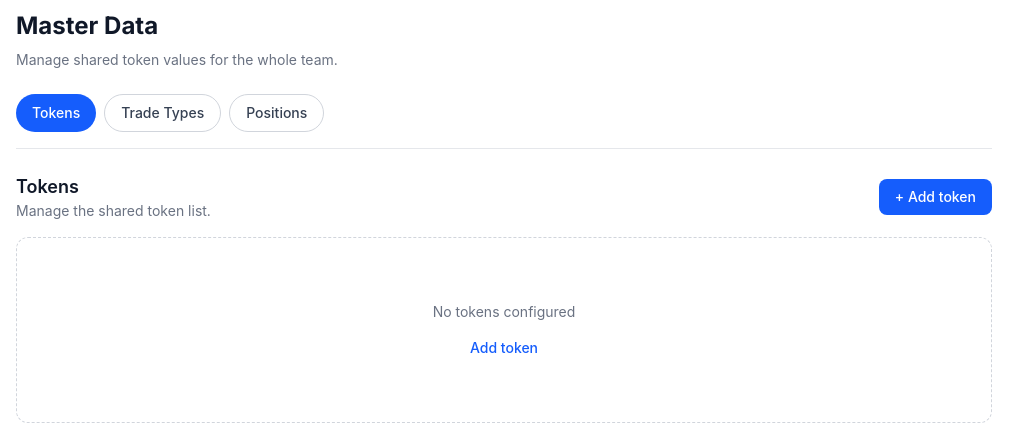
Test case: MasterDataComponent › switches the active tab when a tab is clicked
Click the tab "Positions": coordinates (277, 113) [229,94,324,132]
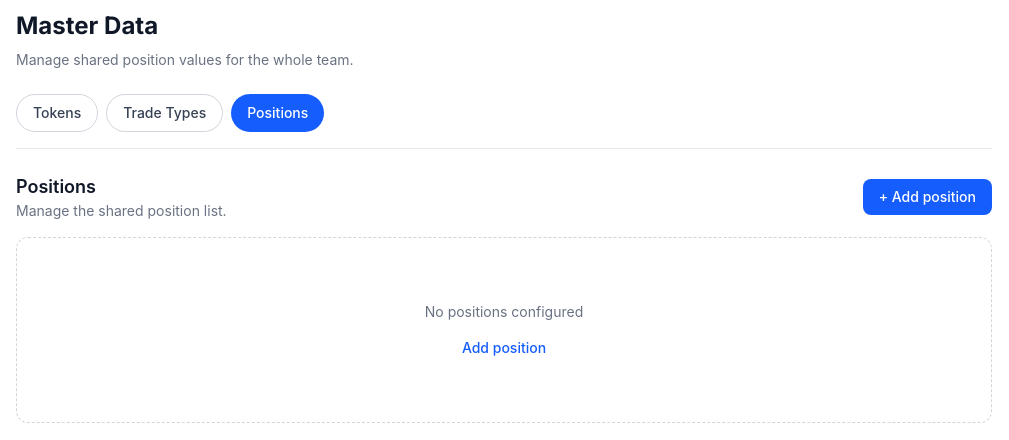
Result: the text "Manage shared position values" is shown at [16,51,354,68]
